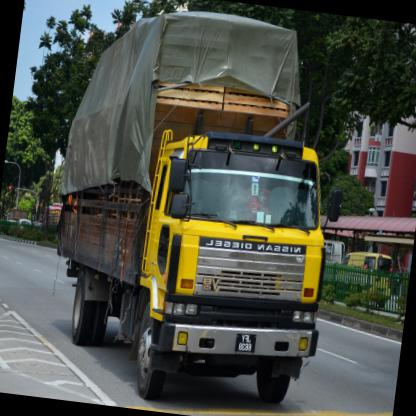truck: (123, 118, 340, 416)
